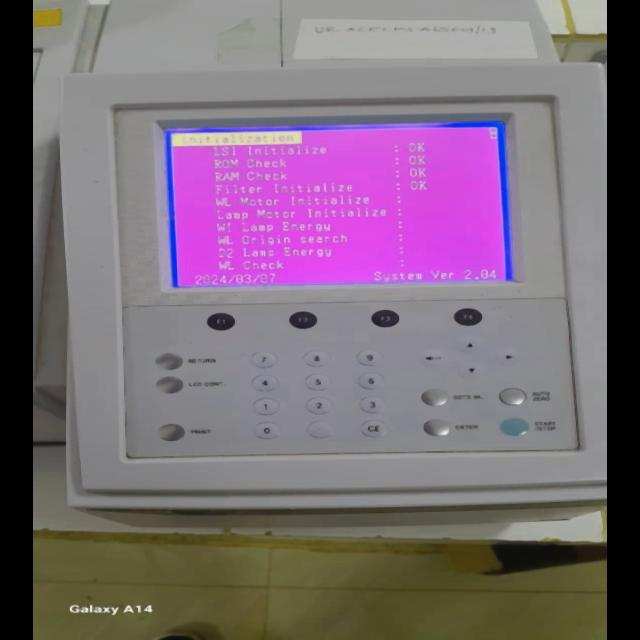Spectrophotometer: (62, 90, 607, 506)
